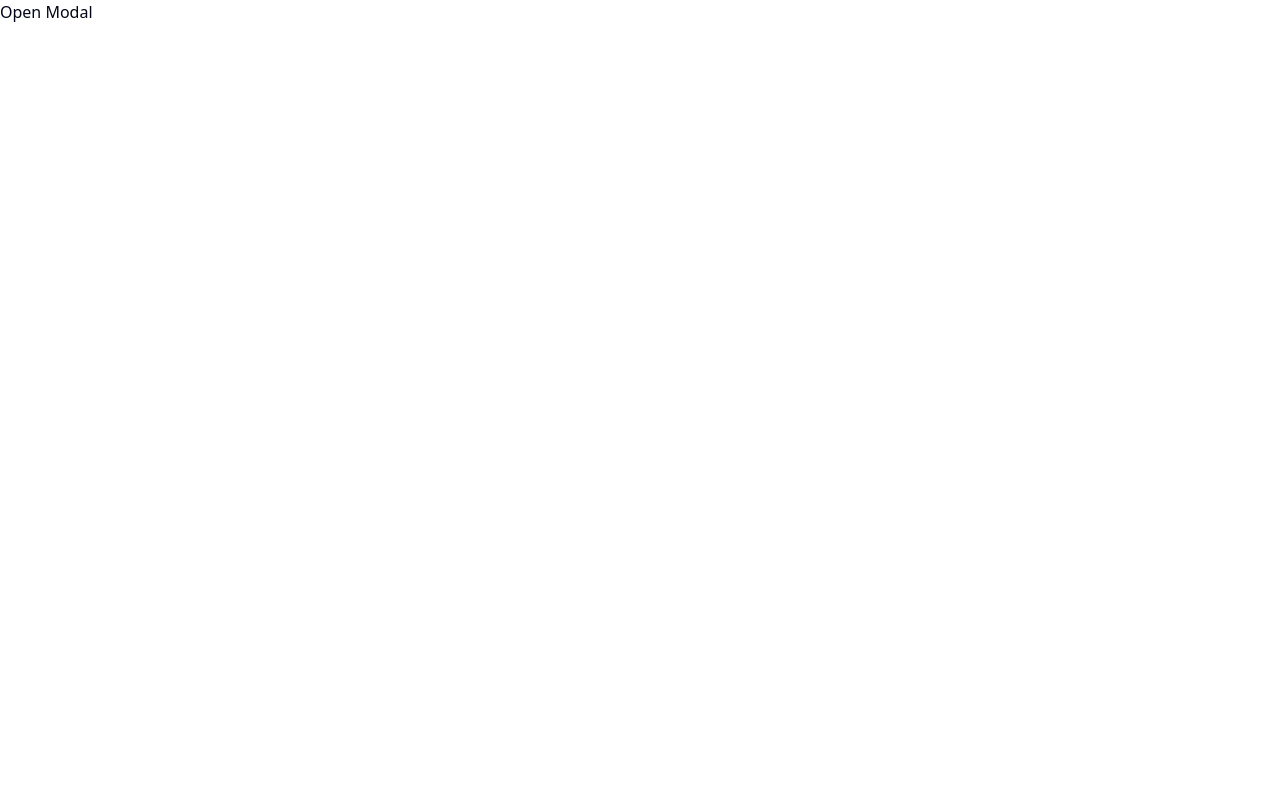
Test: Dialog Component › opens dialog on trigger click and displays content
Click the button "Open Modal": (46, 12) [0,0,92,24]
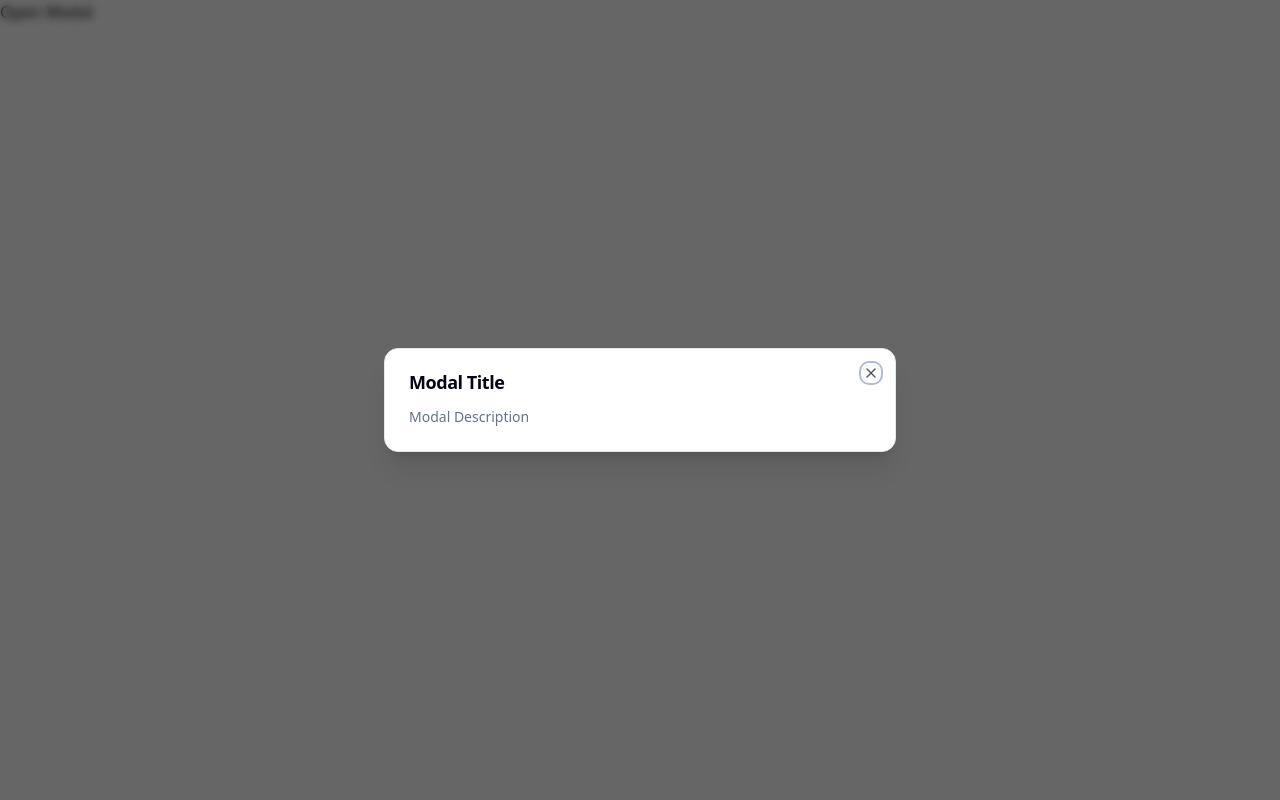
Result: the dialog is shown at [384,348,896,452]
Result: the heading "Modal Title" is shown at [409,370,504,394]
